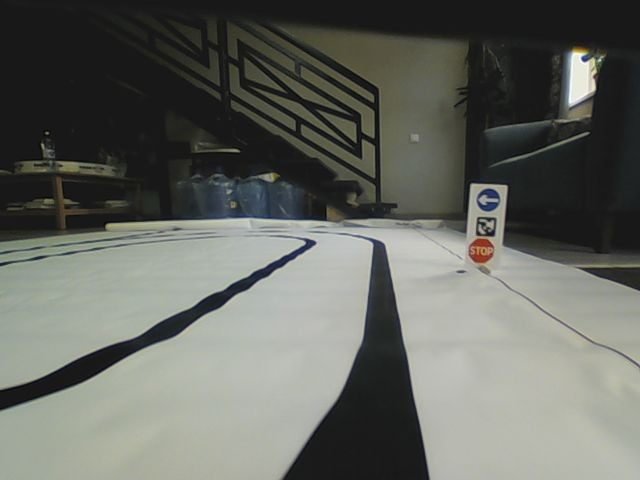Stop: (466, 237, 495, 263)
